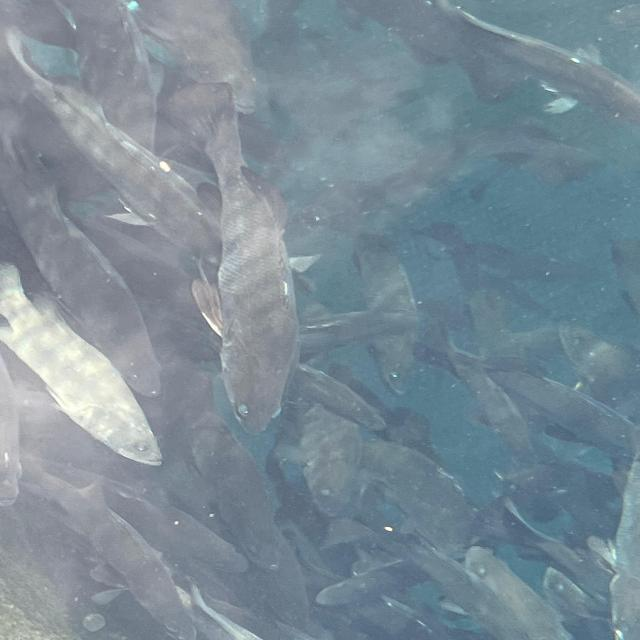ikan: (154, 78, 303, 435), (341, 0, 638, 124), (1, 262, 164, 467), (296, 230, 422, 396)
